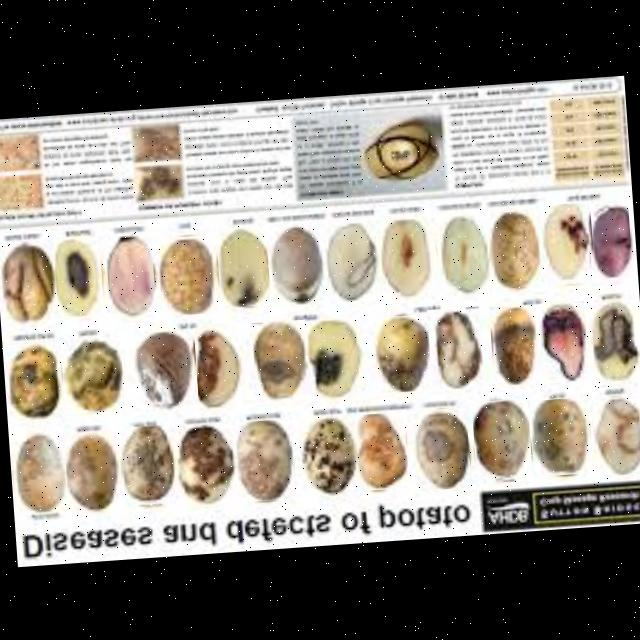Damaged potato: (0, 241, 54, 324), (52, 235, 103, 318)
Diseased-fungal potato: (8, 424, 68, 522), (470, 397, 532, 482), (295, 416, 358, 498), (58, 335, 124, 413), (233, 418, 294, 502), (528, 395, 591, 476), (410, 406, 470, 490), (134, 326, 192, 412), (432, 210, 490, 296), (174, 421, 234, 504), (250, 318, 309, 402), (530, 300, 588, 384), (157, 233, 216, 315), (2, 340, 62, 420), (372, 312, 431, 392), (584, 297, 640, 381), (305, 317, 362, 399), (426, 305, 482, 388), (214, 224, 270, 307), (119, 423, 174, 506), (537, 201, 591, 285), (378, 214, 433, 296), (324, 219, 378, 302), (352, 410, 408, 490), (270, 224, 324, 304), (66, 428, 118, 511), (104, 232, 155, 316), (192, 324, 242, 409), (487, 209, 540, 288), (488, 303, 538, 386), (591, 394, 640, 475), (588, 200, 632, 278)
